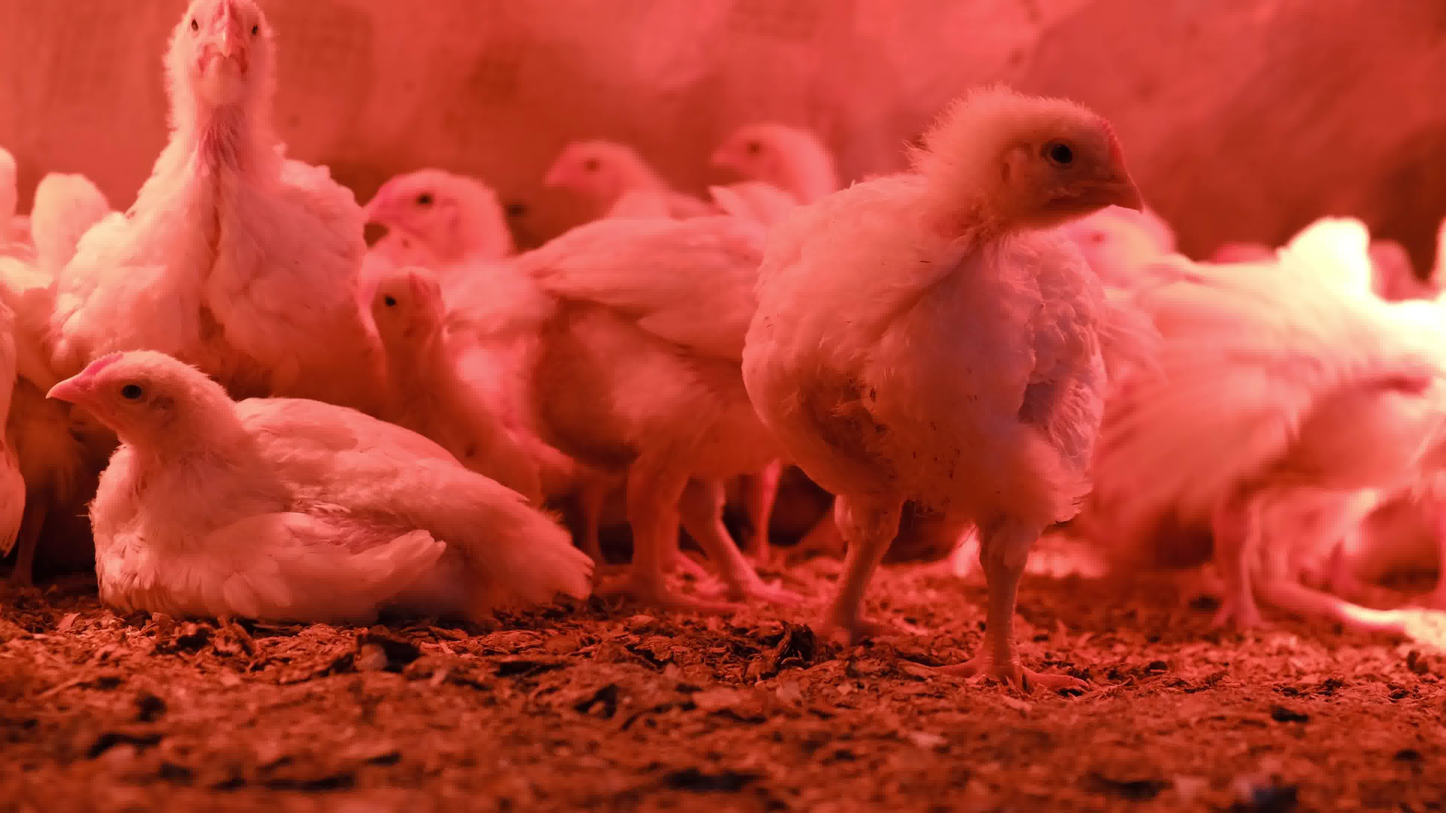AbNormal: (42, 345, 579, 620), (375, 268, 548, 523)
Normal: (739, 76, 1147, 693), (504, 211, 829, 611), (1066, 275, 1446, 616), (60, 0, 375, 392), (359, 168, 514, 267), (543, 134, 686, 226), (715, 119, 848, 205), (32, 166, 111, 297), (1060, 200, 1179, 279)
